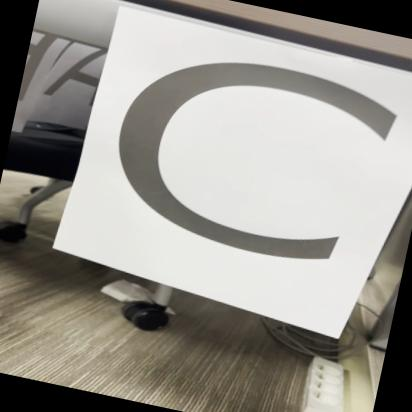seat: (39, 0, 412, 358)
